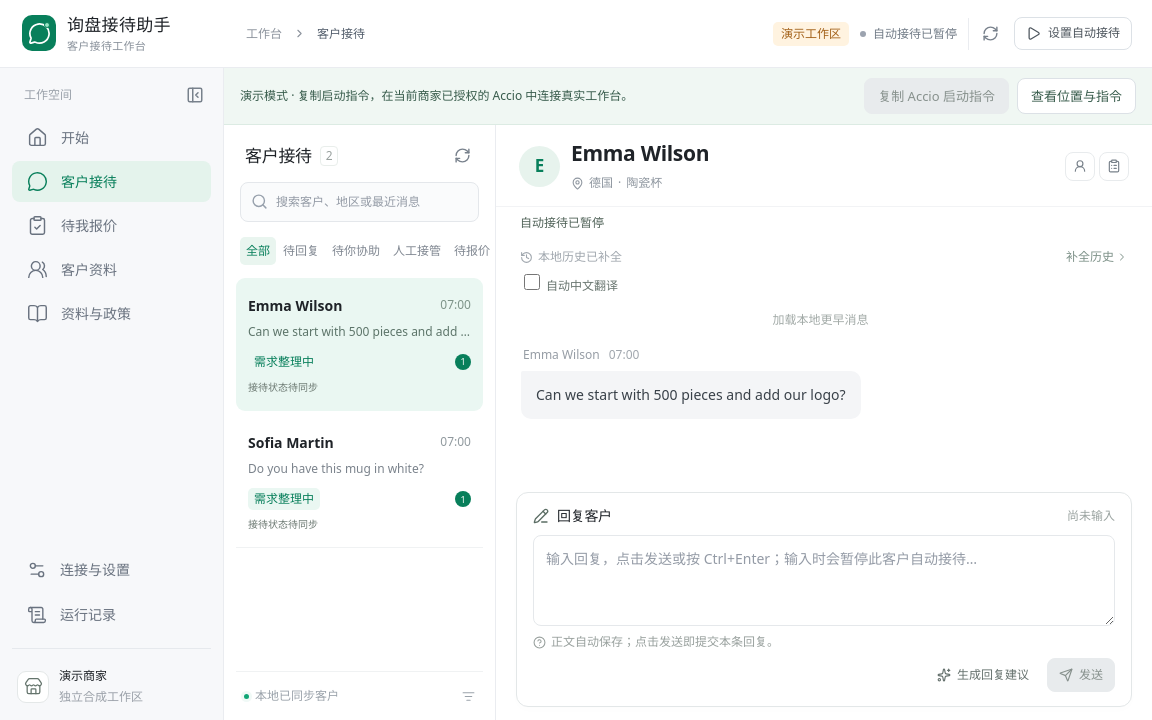
Test case: seller-side reply activity › retains an acknowledged generation if its status refresh fails, without offering a second submission
expect the text box named "回复正文" is shown: met, box left=533, top=535, right=1115, bottom=626
Click the button "生成回复建议".
click(983, 675)  # box left=925, top=658, right=1041, bottom=692
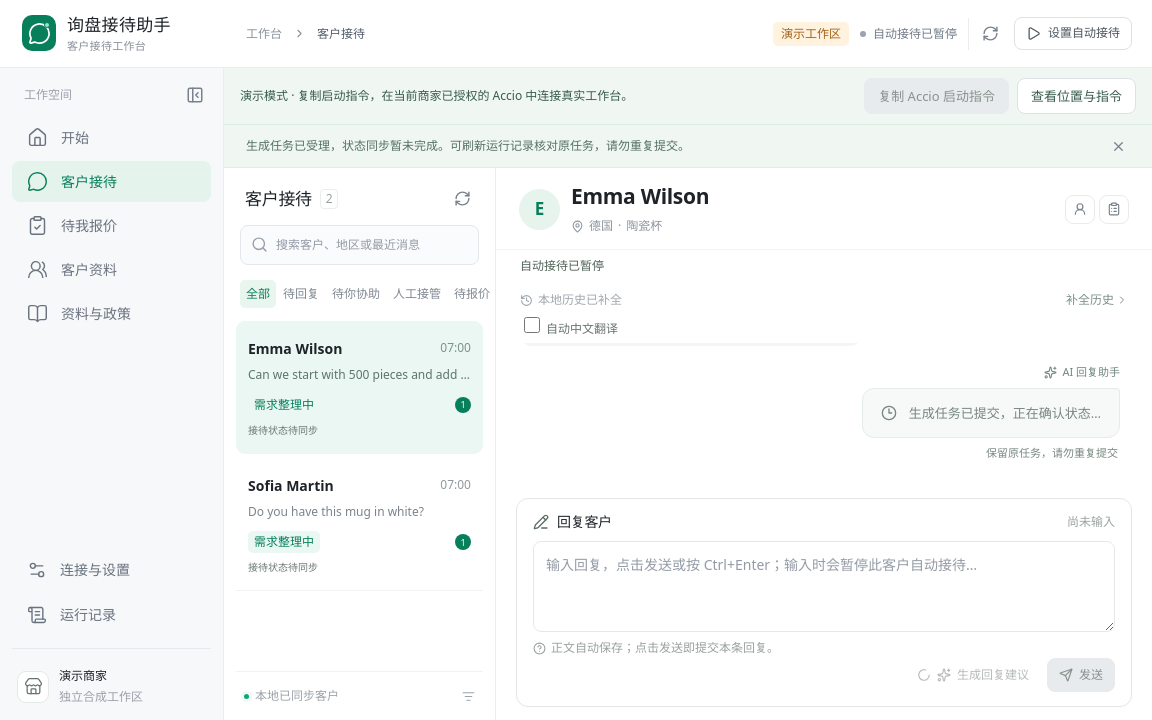
expect the text "生成任务已提交，正在确认状态…" is shown: met, box left=909, top=403, right=1101, bottom=423
expect the button "生成回复建议" is disabled: met
Click the button "生成回复建议".
click(973, 675)  # box left=905, top=658, right=1041, bottom=692
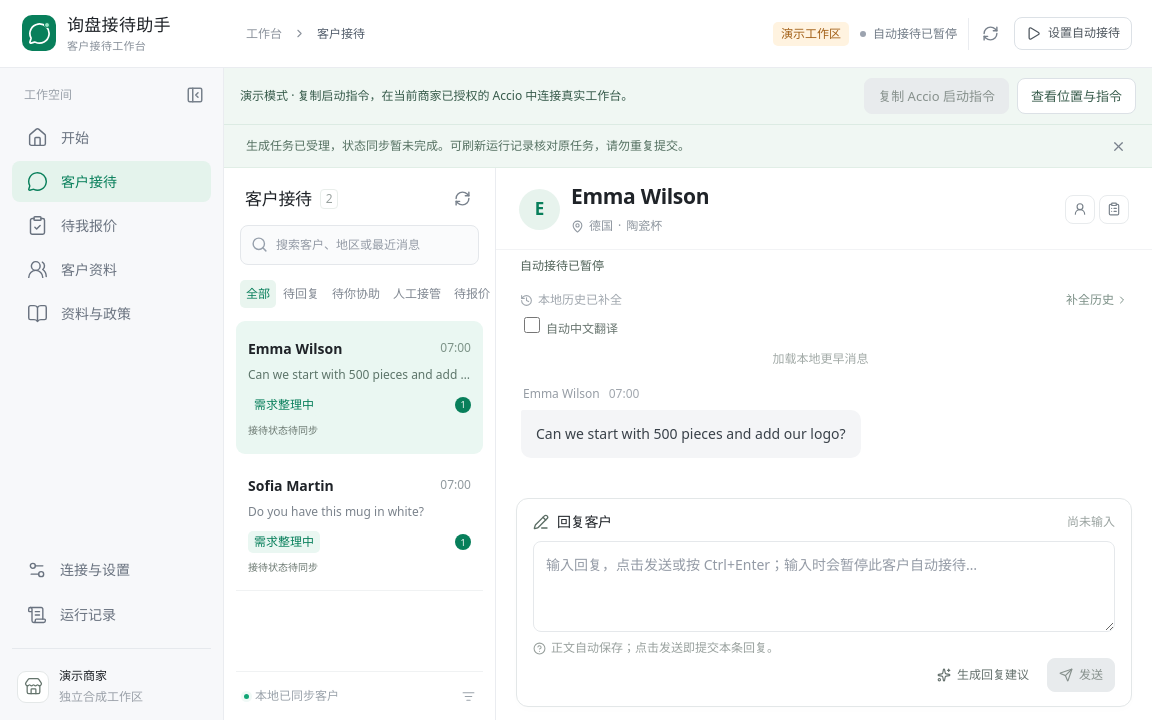
expect the button "生成回复建议" is enabled: met, box left=925, top=658, right=1041, bottom=692
